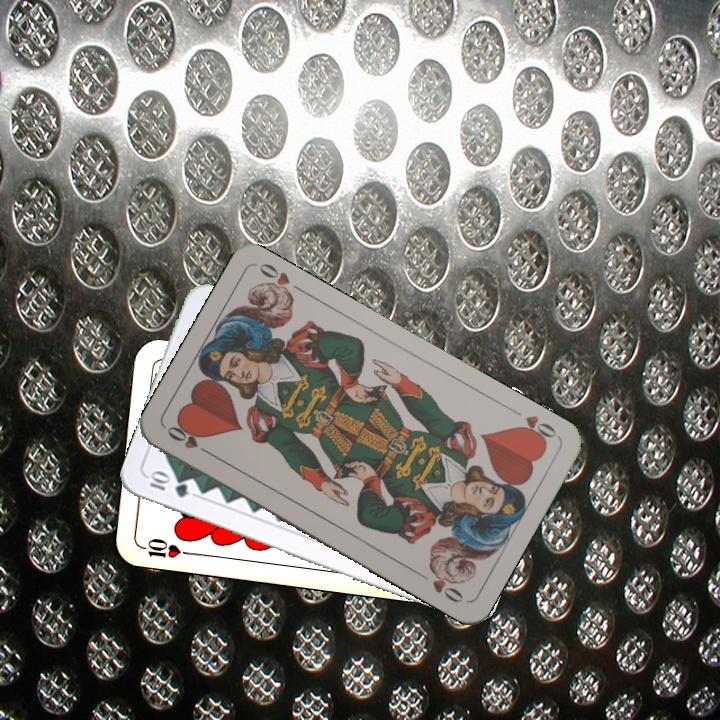G10: (143, 468, 191, 501)
H10: (135, 534, 194, 561)
HO: (163, 421, 216, 459), (511, 411, 559, 447)
